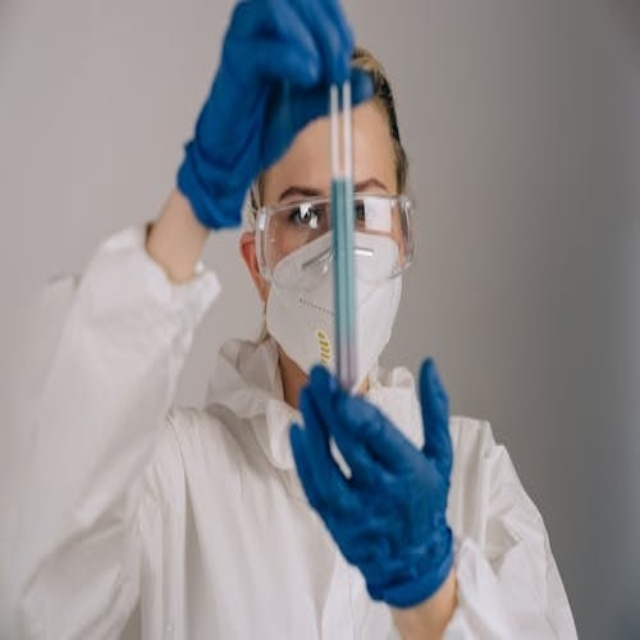Gafas: (250, 192, 416, 285)
Guantes: (176, 0, 370, 234), (289, 351, 455, 608)
Mascara: (262, 211, 408, 388)
